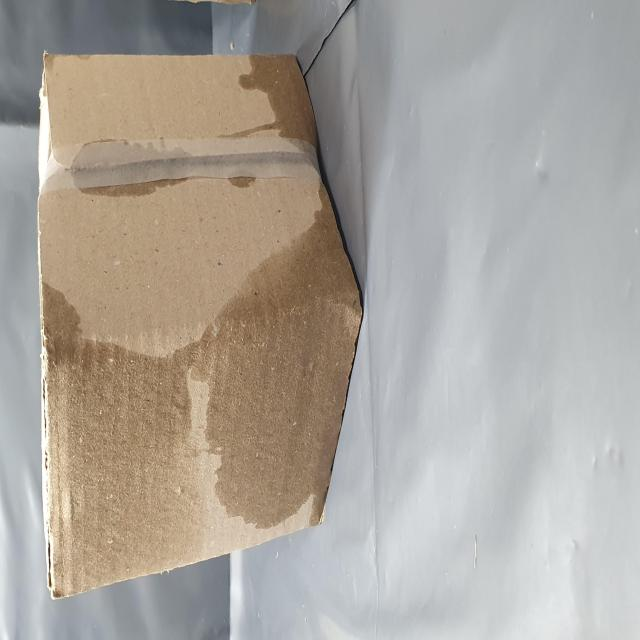wet: (28, 79, 261, 640), (272, 412, 336, 558)
